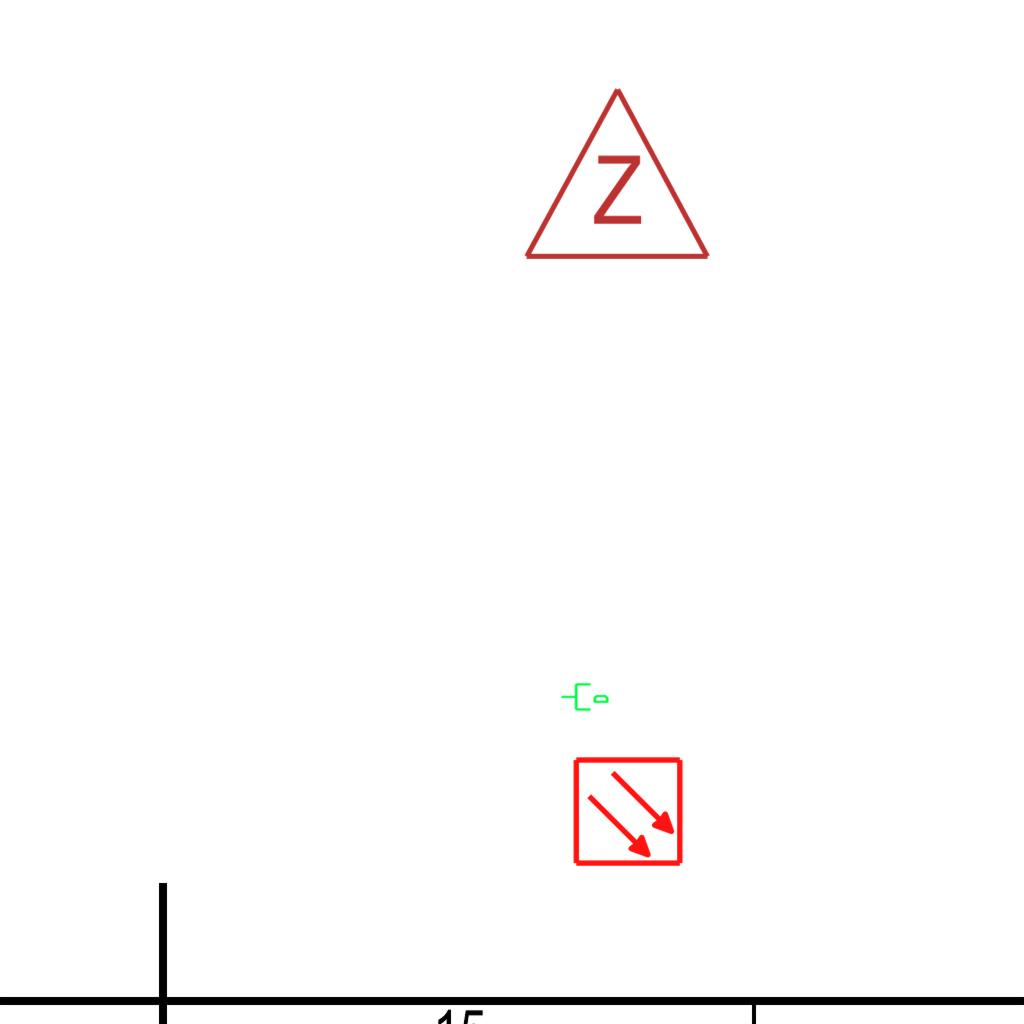Datenanschluss_einfach: (560, 679, 610, 713)
RMO_Rauchmelder_optischer: (572, 755, 685, 868)
Zimmersignalleuchte: (517, 74, 713, 274)
